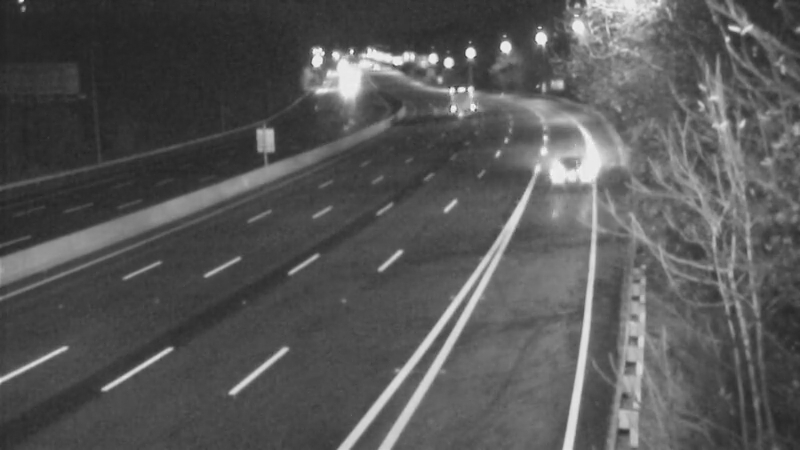vehicle: (522, 128, 602, 208), (426, 70, 476, 120), (323, 66, 373, 116)
